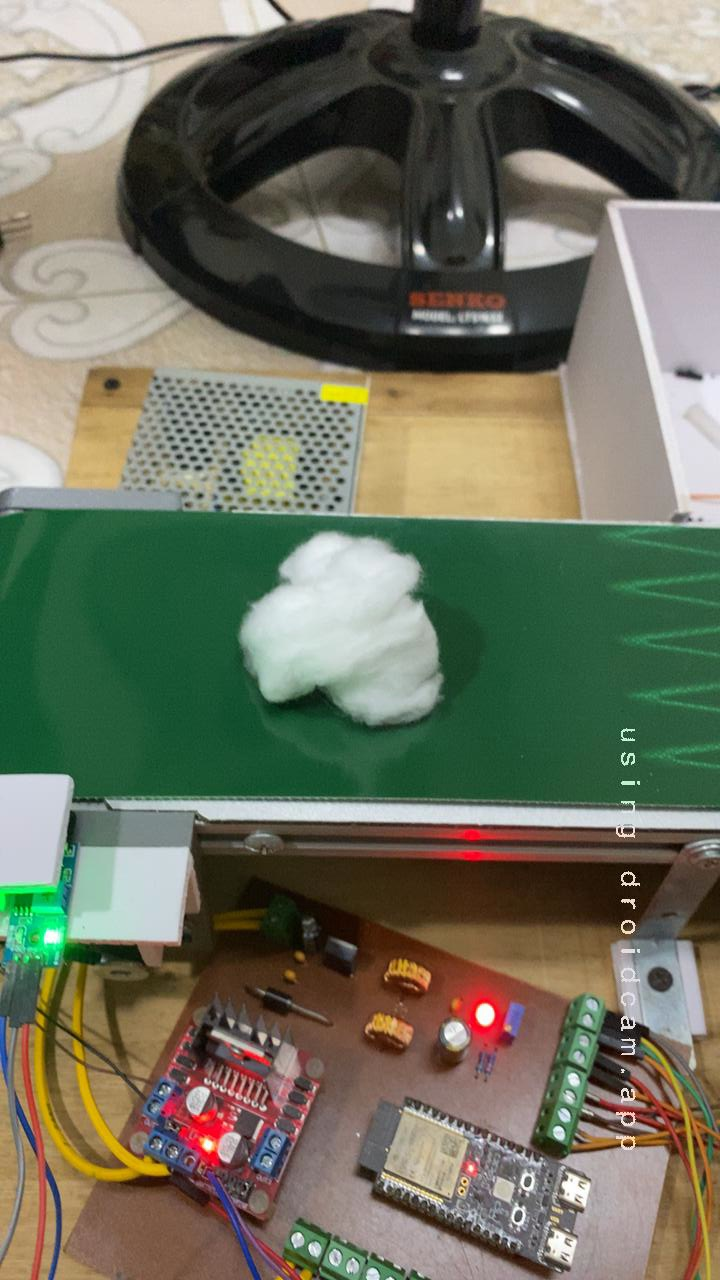cotton: (211, 519, 467, 750)
